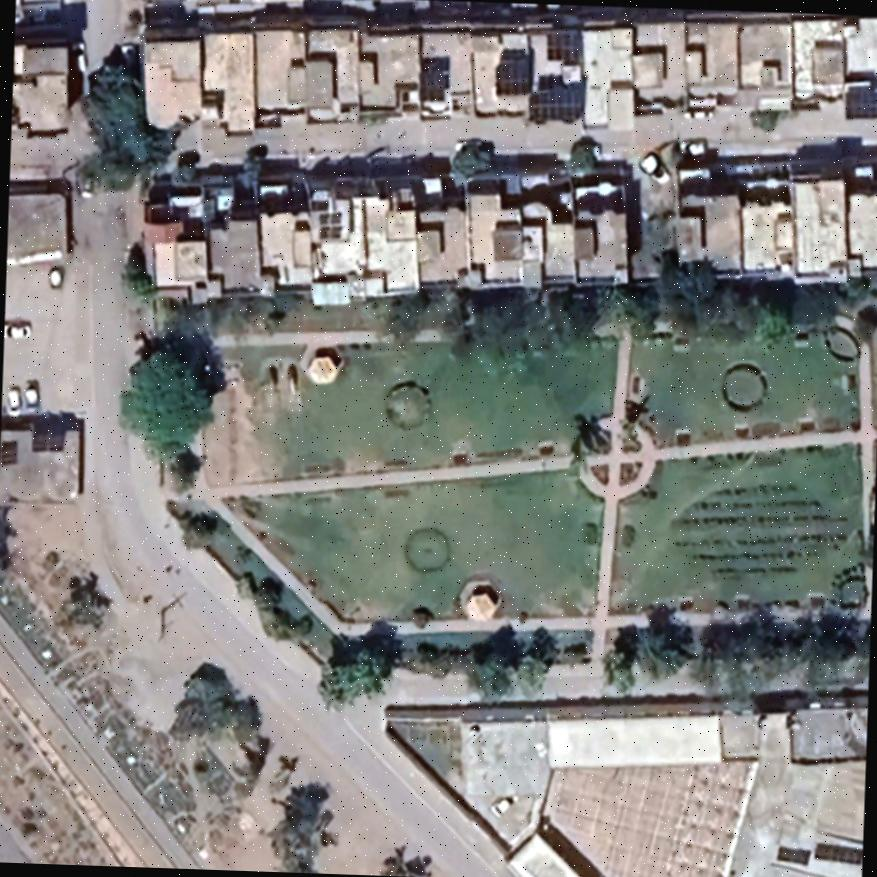Solarpanel: (525, 74, 586, 121), (491, 43, 536, 97), (413, 52, 451, 105), (544, 26, 585, 64), (840, 80, 877, 122), (316, 207, 346, 246)
